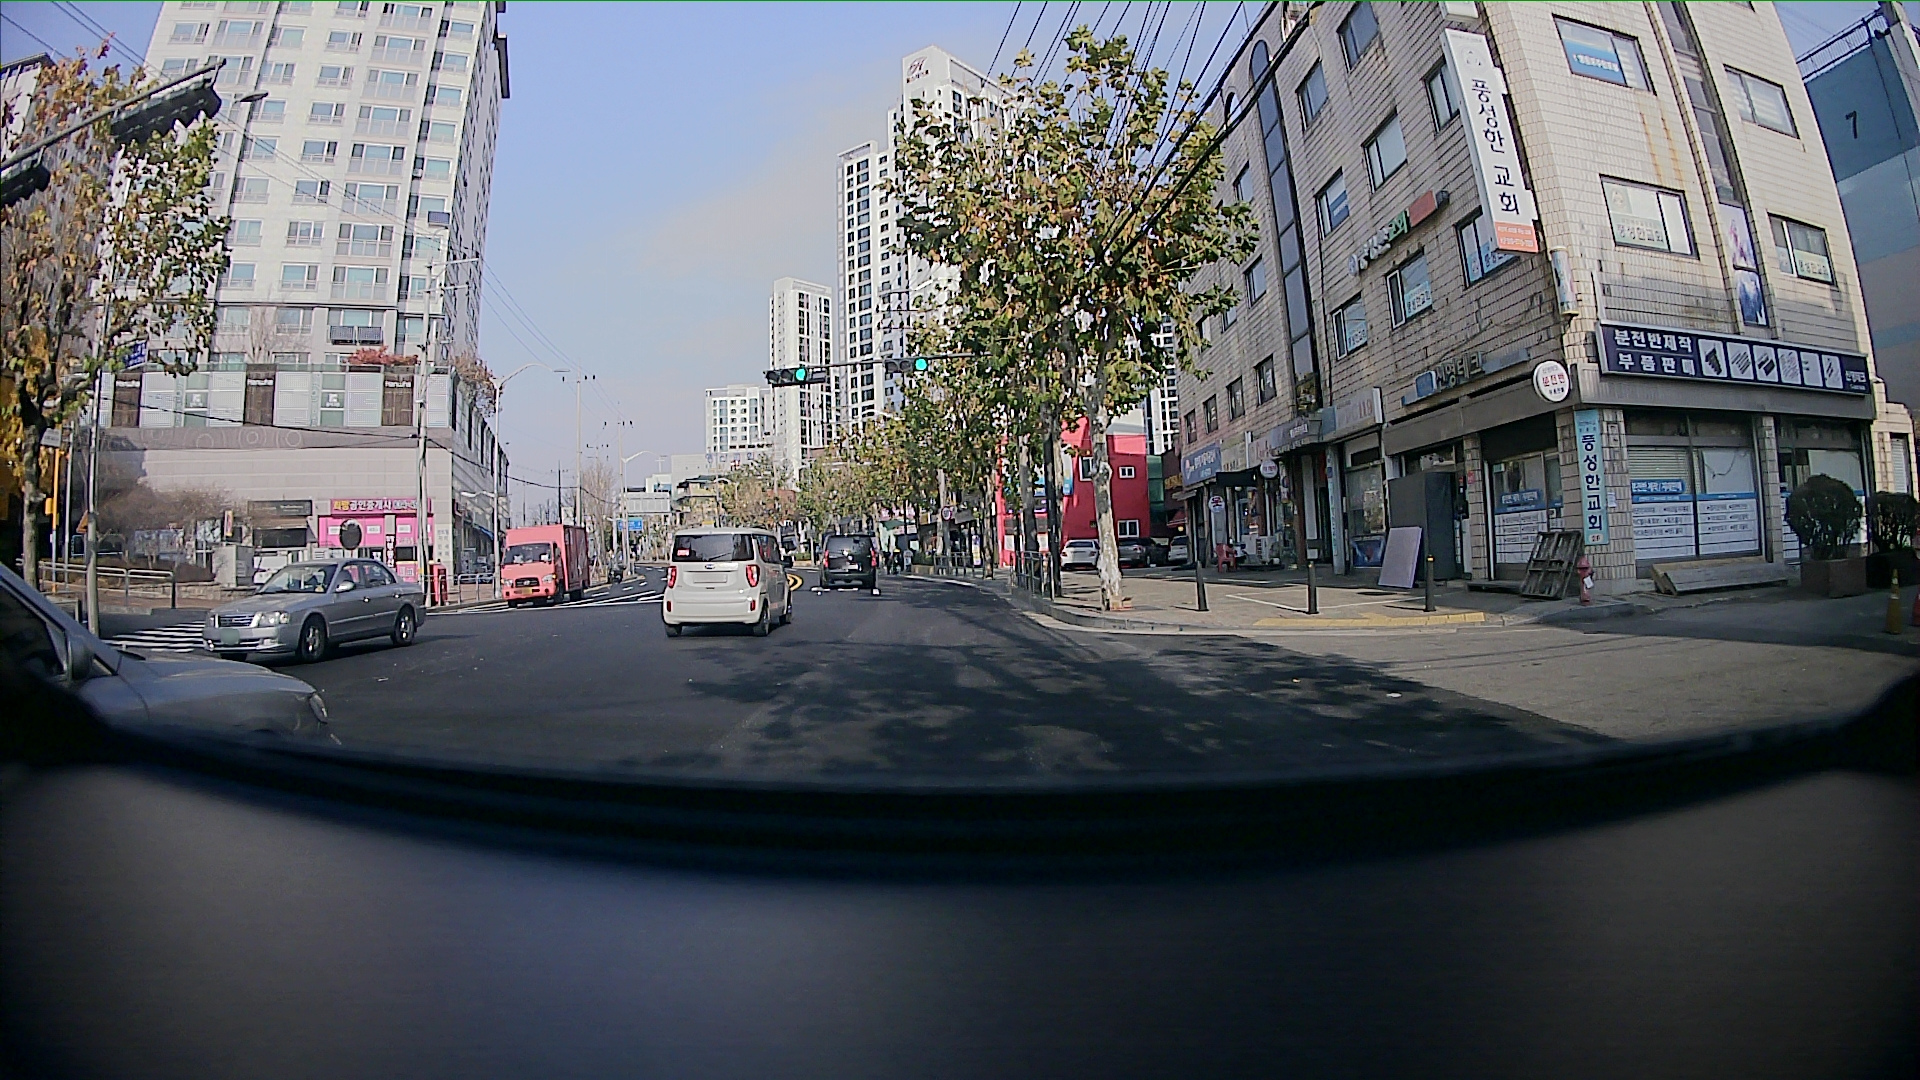trafficLight: (880, 353, 930, 377), (762, 363, 810, 386)
